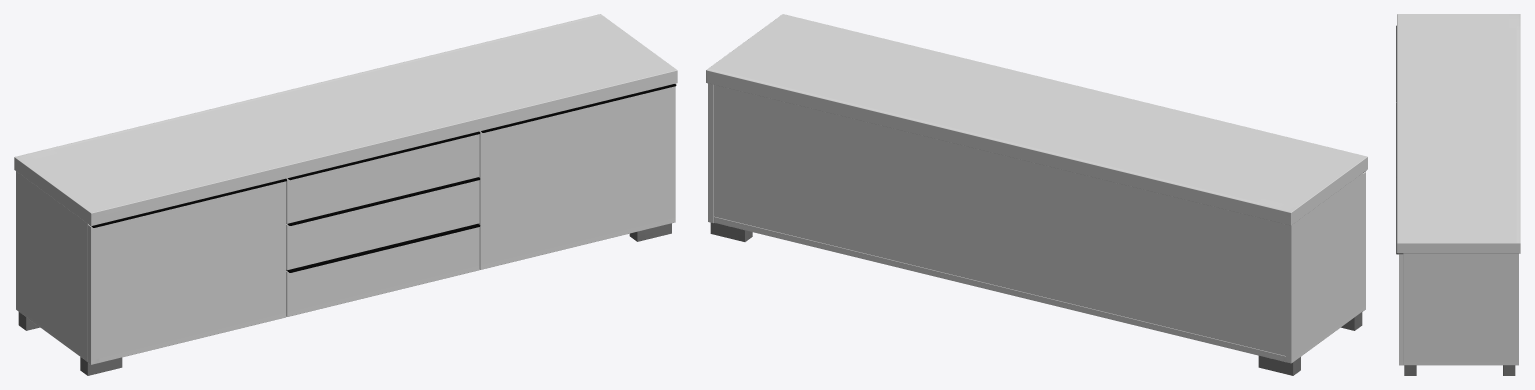
Rendered from tv_stand.glb.
The picture shows the model from 3 angles, left to right: view 1: azimuth 30°, elevation 25°; view 2: azimuth 150°, elevation 25°; view 3: azimuth 270°, elevation 25°; orthographic projection. The views are drawn at different scales.
Visible parts, largest first — view 1: Cube.008, Cube.013, Cube.021; view 2: Cube.008, Cube.021; view 3: Cube.008, Cube.021, Cube.013.
Boxes of the visible parts, x1,y1,x2,y2 form: Cube.008: (14,14,677,364); Cube.013: (90,84,676,272); Cube.021: (18,223,671,375); Cube.008: (706,14,1367,363); Cube.021: (710,222,1362,375); Cube.008: (1397,14,1520,365); Cube.021: (1404,365,1515,375); Cube.013: (1396,25,1402,254).
Bounding box in the file's own units: 1.8 × 0.4877 × 0.4127.
Materials: 3 (2 with a texture image).
